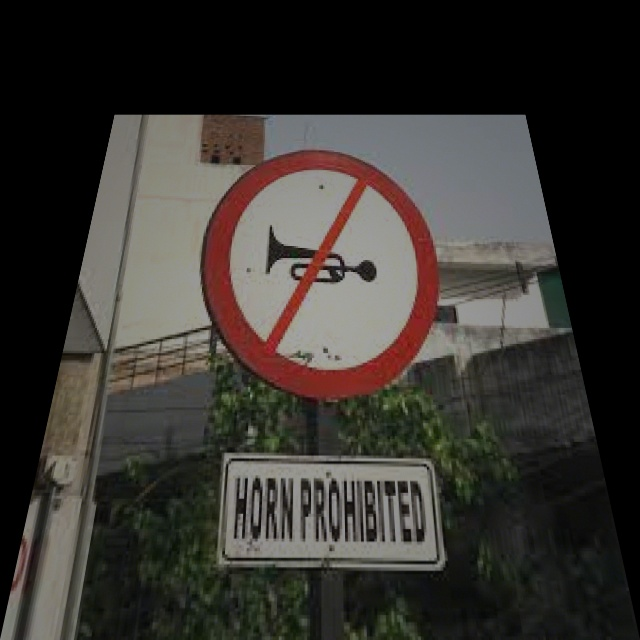Horn_Prohibited: (198, 151, 450, 396)
